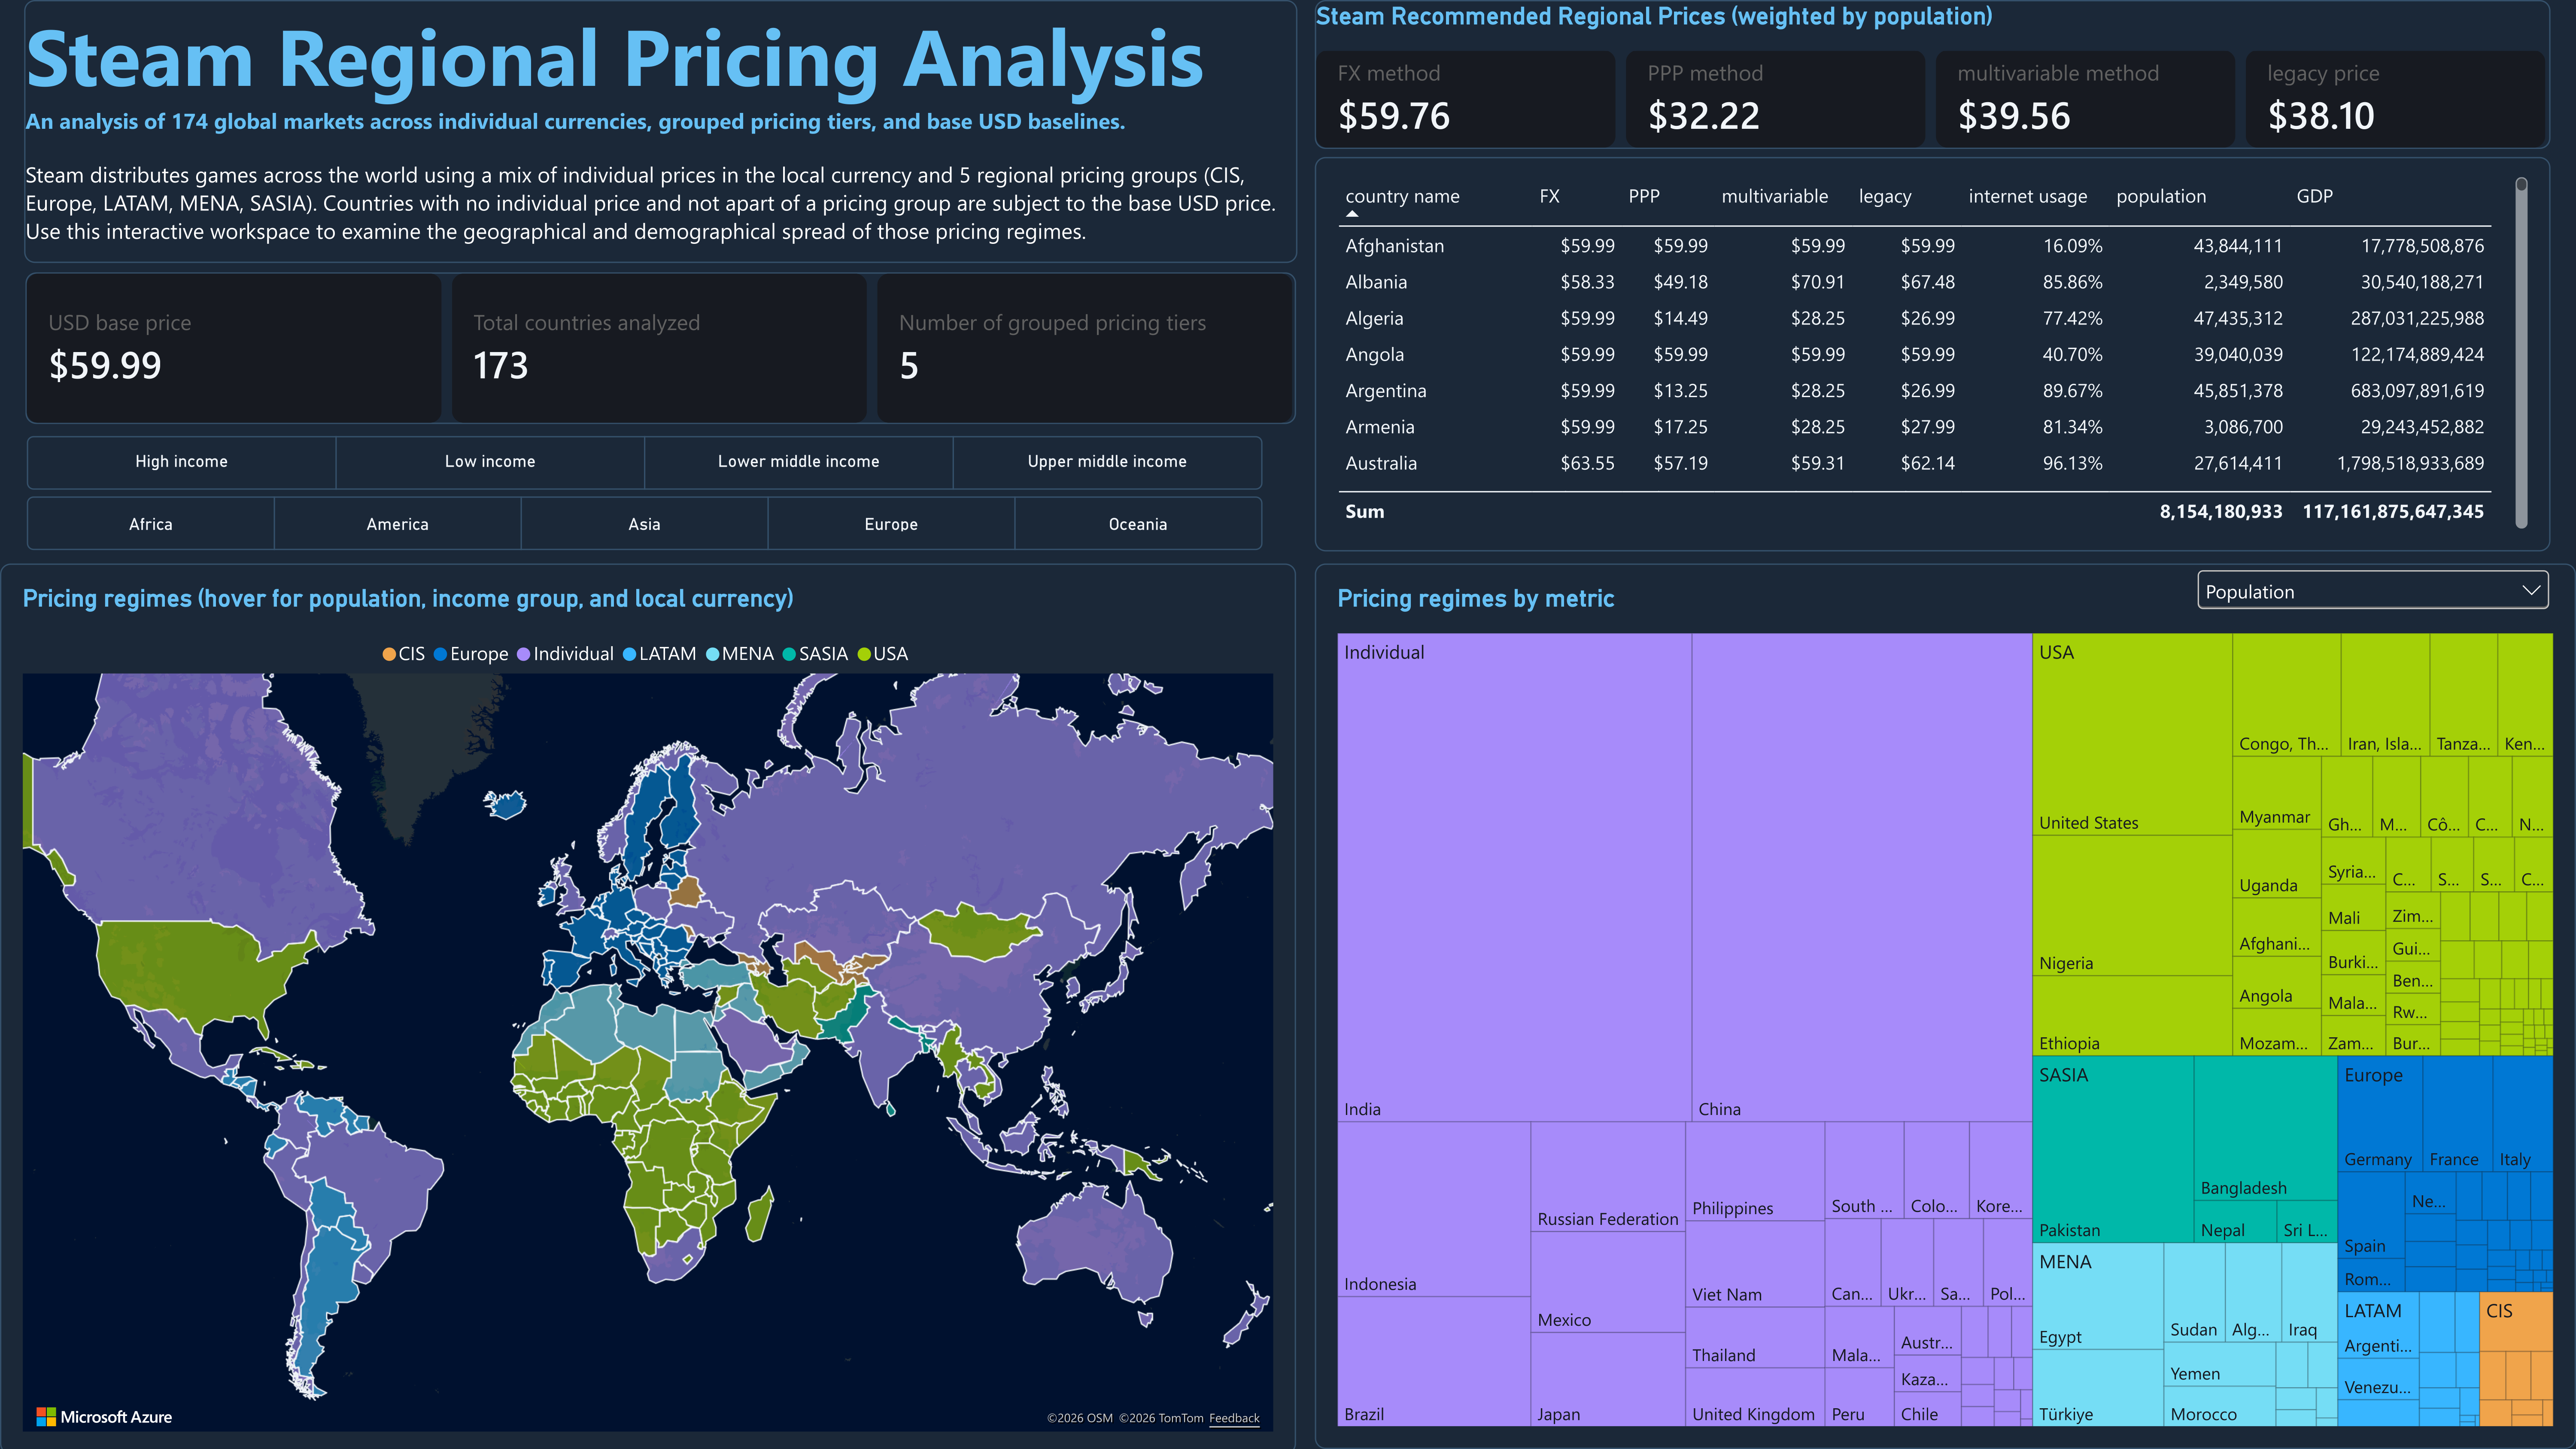

What the dashboard file says about the page in this screenshot:
{"tool":"powerbi","page":{"name":"Geographic and demographic distribution of pricing regimes","canvas":[1920,1080],"ordinal":0},"visuals":[{"type":"azureMap","title":"Pricing regimes (hover for population, income group, and local currency)","fields":{"Category":["steam_regional_pricing_dataset.iso2","steam_regional_pricing_dataset.iso3"],"Series":["steam_regional_pricing_dataset.group_name"]},"box":[0,419.8,965.8,664.2],"z":0},{"type":"treemap","title":"Pricing regimes by metric","fields":{"Details":["steam_regional_pricing_dataset.country_name"],"Group":["steam_regional_pricing_dataset.group_name"],"Values":["steam_regional_pricing_dataset.Total Population"]},"box":[980.4,419.8,939.2,660.2],"z":1000},{"type":"cardVisual","fields":{"Data":["steam_regional_pricing_dataset.USD Base Price","steam_regional_pricing_dataset.Total Countries Analyzed","steam_regional_pricing_dataset.Number of Grouped Pricing Tiers"]},"box":[18.6,202.9,947.1,113.6],"z":2000},{"type":"cardVisual","title":"Steam Recommended Regional Prices (weighted by population)","fields":{"Data":["steam_regional_pricing_dataset.Weighted Average Price FX","steam_regional_pricing_dataset.Weighted Average Price PPP","steam_regional_pricing_dataset.Weighted Average Price multivariable","steam_regional_pricing_dataset.Weighted Average Price legacy"]},"box":[980,0,921.4,111.4],"z":3000},{"type":"advancedSlicerVisual","fields":{"Values":["steam_regional_pricing_dataset.continent"]},"box":[0,370,961,40],"z":4000},{"type":"advancedSlicerVisual","fields":{"Values":["steam_regional_pricing_dataset.WB_income_classification"]},"box":[0,325,961.4,40],"z":5000},{"type":"slicer","fields":{"Values":["treemap parameters.treemap parameters"]},"box":[1633.3,420,271.7,55],"z":6000},{"type":"textbox","box":[18,0,948.6,195.7],"z":7000},{"type":"tableEx","fields":{"Values":["steam_regional_pricing_dataset.country_name","steam_regional_pricing_dataset.price_steam_FX_USD","steam_regional_pricing_dataset.price_steam_PPP_USD","steam_regional_pricing_dataset.price_steam_multivariable_USD","steam_regional_pricing_dataset.price_steam_legacy_USD","steam_regional_pricing_dataset.WB_percent_using_internet","Sum(steam_regional_pricing_dataset.total_population)","Sum(steam_regional_pricing_dataset.WB_GDP_USD)"]},"box":[980,117.1,921.4,294.3],"z":8000}]}

Visuals, with their boxes in screenshot pixels (x1, y1, x2, y2), scaled from the page's 1920x1080 canvas onto the 2576x1449 screenshot:
"Pricing regimes (hover for population, income group, and local currency)" azureMap: {"x1": 0, "y1": 563, "x2": 1296, "y2": 1449}
"Pricing regimes by metric" treemap: {"x1": 1315, "y1": 563, "x2": 2576, "y2": 1449}
cardVisual - steam_regional_pricing_dataset.USD Base Price x steam_regional_pricing_dataset.Total Countries Analyzed: {"x1": 25, "y1": 272, "x2": 1296, "y2": 425}
"Steam Recommended Regional Prices (weighted by population)" cardVisual: {"x1": 1315, "y1": 0, "x2": 2551, "y2": 149}
advancedSlicerVisual - steam_regional_pricing_dataset.continent: {"x1": 0, "y1": 496, "x2": 1289, "y2": 550}
advancedSlicerVisual - steam_regional_pricing_dataset.WB_income_classification: {"x1": 0, "y1": 436, "x2": 1290, "y2": 490}
slicer - treemap parameters.treemap parameters: {"x1": 2191, "y1": 563, "x2": 2556, "y2": 637}
textbox: {"x1": 24, "y1": 0, "x2": 1297, "y2": 263}
tableEx - steam_regional_pricing_dataset.country_name x steam_regional_pricing_dataset.price_steam_FX_USD: {"x1": 1315, "y1": 157, "x2": 2551, "y2": 552}
